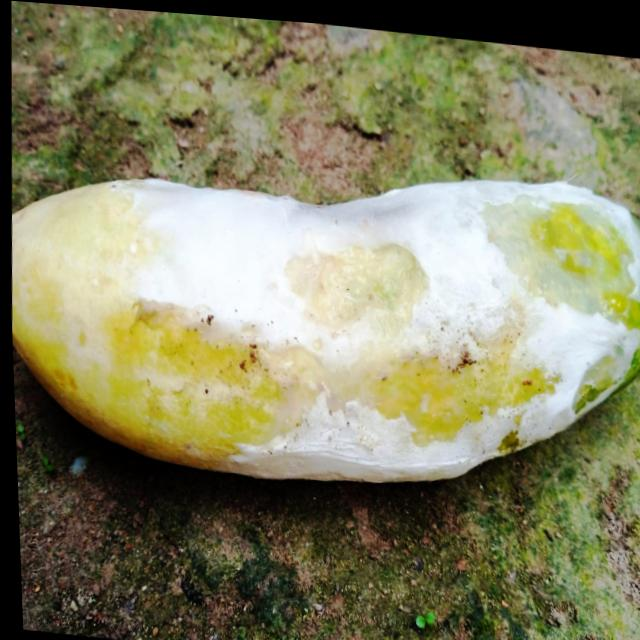Pythium-Fruit-Rot: (95, 128, 640, 512)
